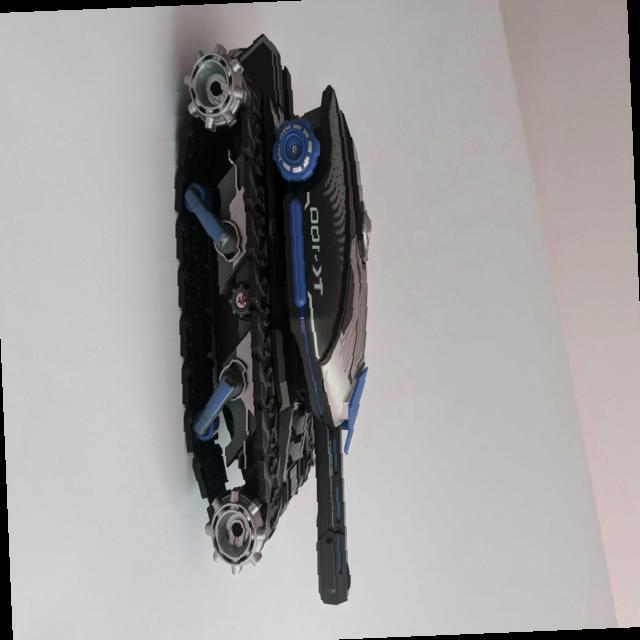barrel: (313, 425, 352, 602)
